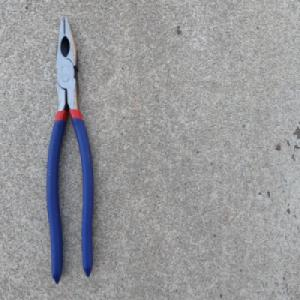Pliers: (44, 13, 95, 285)
